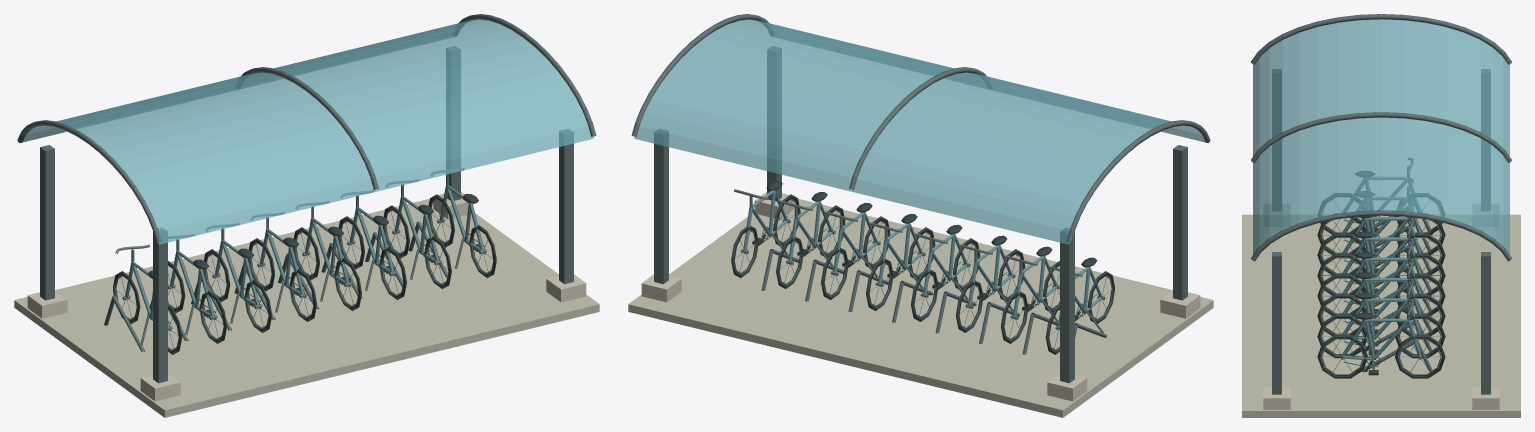
File: bike.glb
3 views of the same model, side by side, from view 1: azimuth 30°, elevation 25°; view 2: azimuth 150°, elevation 25°; view 3: azimuth 270°, elevation 25° (orthographic). The views are drawn at different scales.
Visible parts, largest first — view 1: 곡면 지붕 자전거 보관소, korean-facade-parts-c1c1b2, korean-facade-parts-627475, korean-facade-parts-cec9b9; view 2: 곡면 지붕 자전거 보관소, korean-facade-parts-c1c1b2, korean-facade-parts-627475, korean-facade-parts-cec9b9; view 3: 곡면 지붕 자전거 보관소, korean-facade-parts-c1c1b2, korean-facade-parts-627475, dark-1 (×7), korean-facade-parts-cec9b9, dark-10 (×6).
Part boxes in pixels (x1=…): 곡면 지붕 자전거 보관소: x1=22, y1=19, x2=593, y2=244; korean-facade-parts-c1c1b2: x1=14, y1=198, x2=599, y2=417; korean-facade-parts-627475: x1=17, y1=14, x2=596, y2=383; korean-facade-parts-cec9b9: x1=27, y1=192, x2=586, y2=401; 곡면 지붕 자전거 보관소: x1=634, y1=19, x2=1205, y2=244; korean-facade-parts-c1c1b2: x1=628, y1=198, x2=1213, y2=417; korean-facade-parts-627475: x1=631, y1=14, x2=1210, y2=383; korean-facade-parts-cec9b9: x1=641, y1=192, x2=1200, y2=401; 곡면 지붕 자전거 보관소: x1=1253, y1=19, x2=1509, y2=261; korean-facade-parts-c1c1b2: x1=1242, y1=214, x2=1520, y2=417; korean-facade-parts-627475: x1=1251, y1=14, x2=1511, y2=394; dark-1 (×7): x1=1317, y1=193, x2=1367, y2=378; korean-facade-parts-cec9b9: x1=1263, y1=204, x2=1499, y2=409; dark-10 (×6): x1=1395, y1=233, x2=1445, y2=378.
Bounding box in the file's own units: 6.07 × 2.96 × 3.6.
